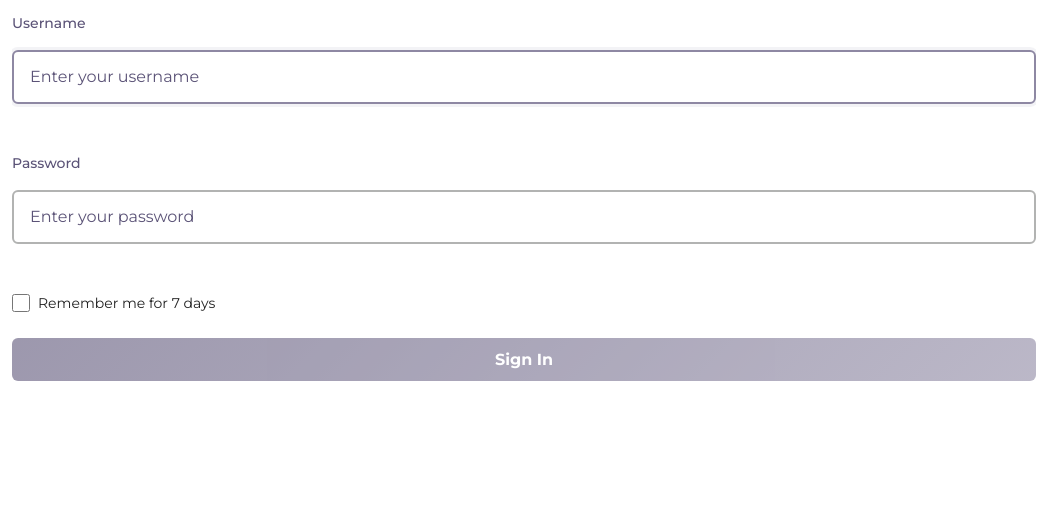
Scenario: LoginForm Component › should show error message on invalid credentials
The width and height of the screenshot is (1048, 527).
Step 1. Type "wronguser" into the field labelled "Username" → (524, 77), box [12,50,1036,104]
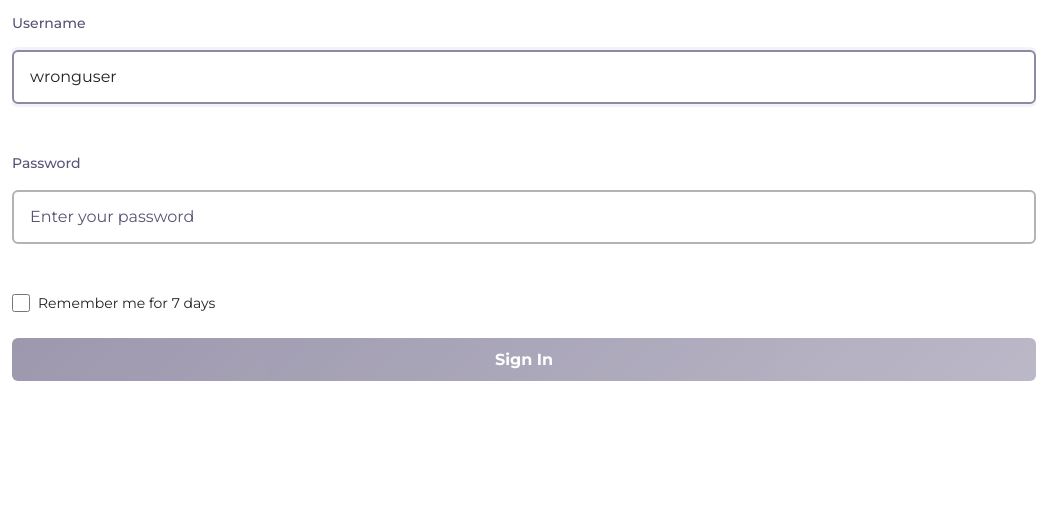
Step 2. Type "wrongpass" into the password field labelled "Password" → (524, 217), box [12,190,1036,244]
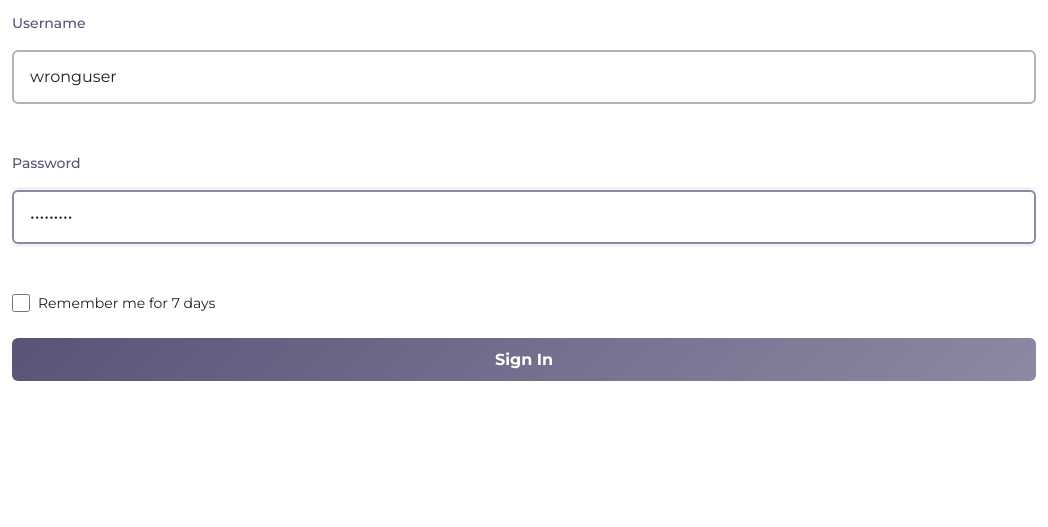
Step 3. Click the button "Sign In" → (524, 360), box [12,338,1036,381]
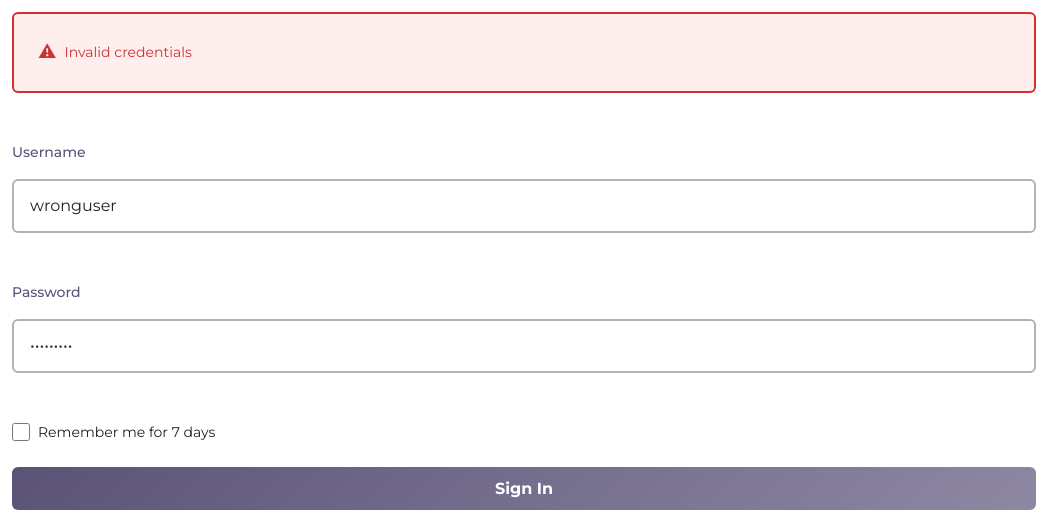
Expected: the text "Invalid credentials" is shown, [64,41,192,64]
